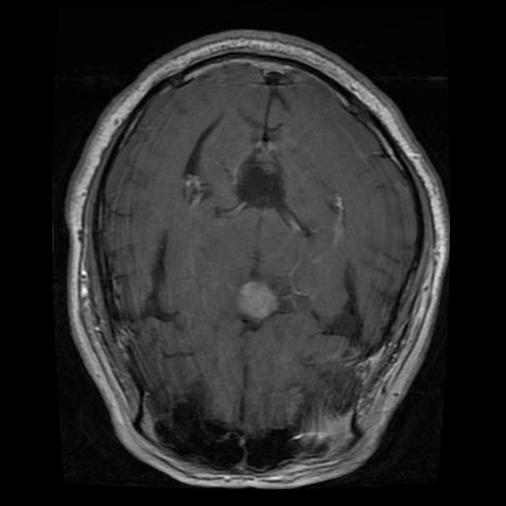Tumour-Pituitary: (225, 272, 284, 327)
